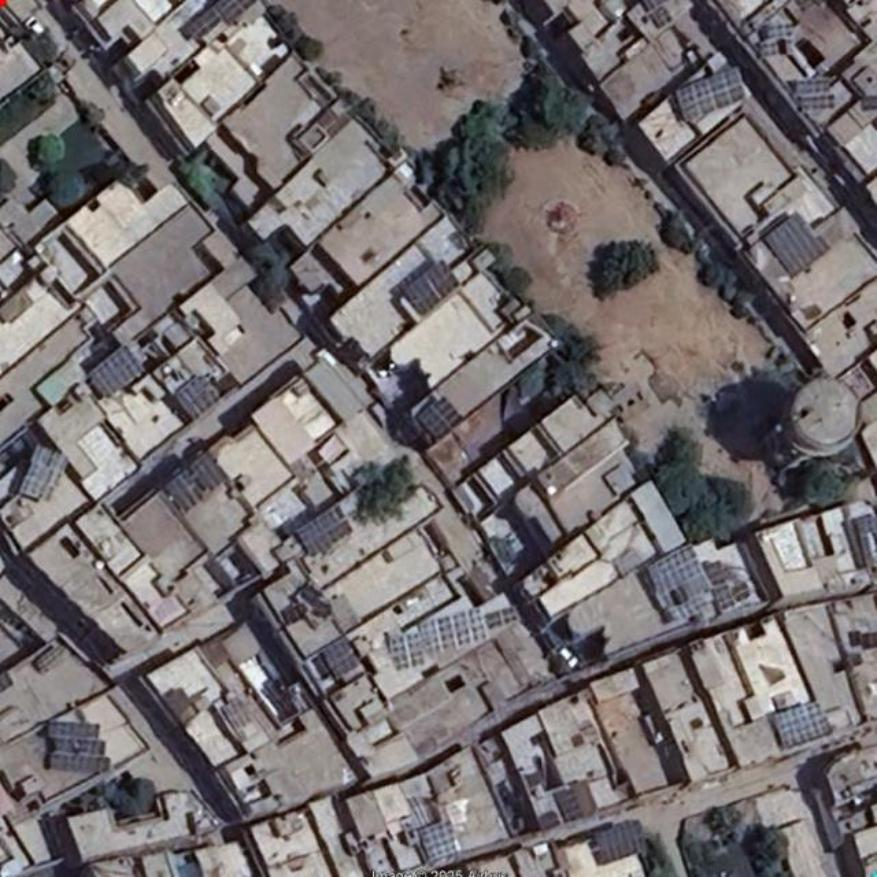Solarpanel: (648, 544, 716, 622), (765, 215, 829, 275), (164, 452, 226, 513), (676, 70, 744, 119), (419, 609, 488, 655), (404, 259, 458, 315), (294, 504, 353, 555), (50, 725, 111, 773), (90, 345, 143, 399), (773, 704, 833, 750), (20, 445, 69, 501), (174, 375, 221, 418), (416, 395, 465, 436), (595, 824, 639, 864), (324, 636, 360, 675), (391, 632, 424, 672), (423, 821, 455, 861), (795, 80, 836, 110), (489, 610, 517, 627)
